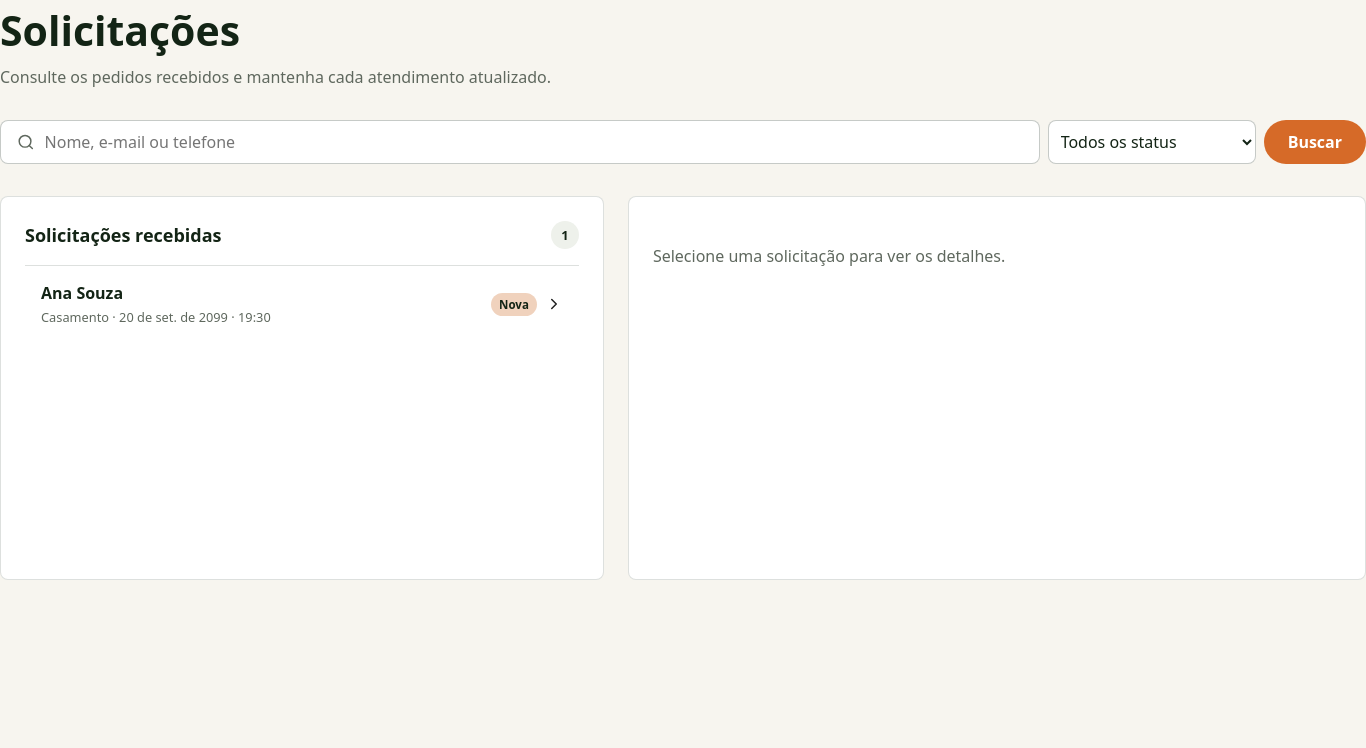
AdminQuoteRequestsPage › does not delete when confirmation is cancelled
The image size is (1366, 748).
Click the button "Ana Souza Casamento · 20 de set. de 2099 · 19:30 Nova". click: (82,293)
box: [25,265,579,342]
(page scrolled)
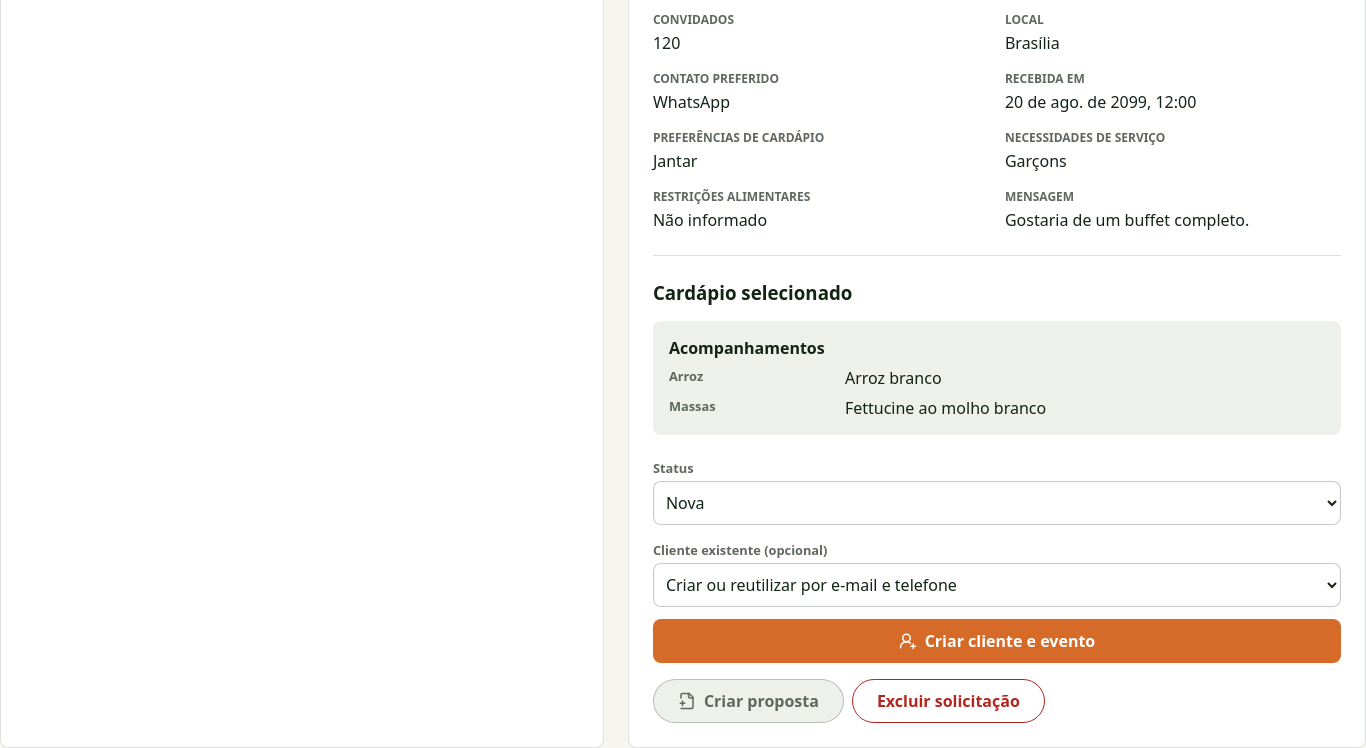
Click the button "Excluir solicitação". click: (948,701)
box: [852,679,1045,723]
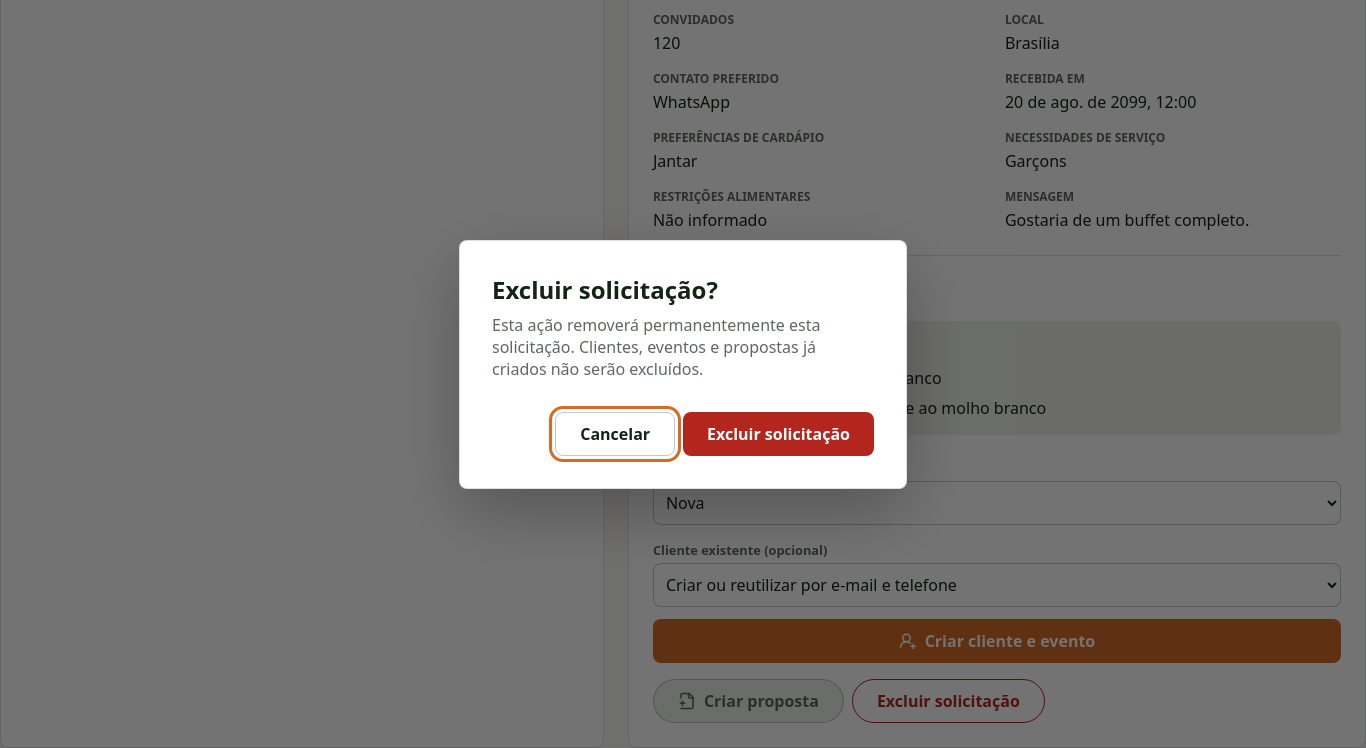
Result: the text "clientes, eventos e propostas já criados não serão excluídos" is shown at [492,314,820,380]
Click the button "Cancelar". click: (615,434)
box: [555,412,675,456]
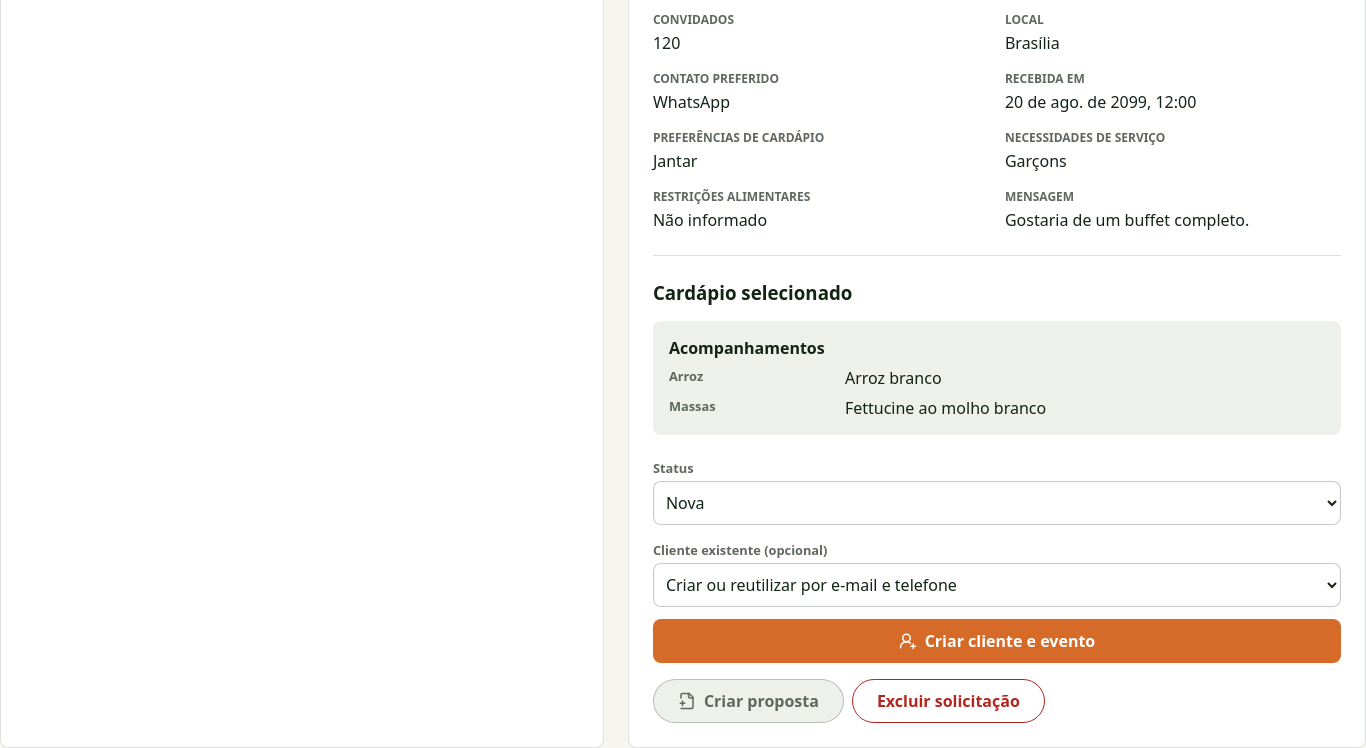
Result: the dialog is gone
